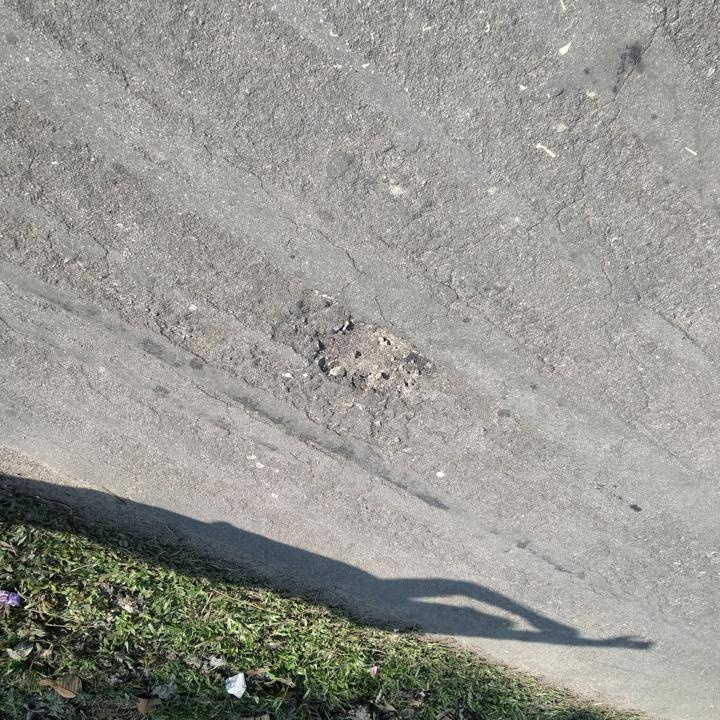pothole: (309, 316, 422, 397)
